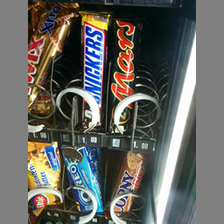chocolate: (77, 11, 108, 130), (109, 15, 138, 136), (108, 149, 148, 221), (61, 144, 102, 212), (28, 141, 61, 214)
